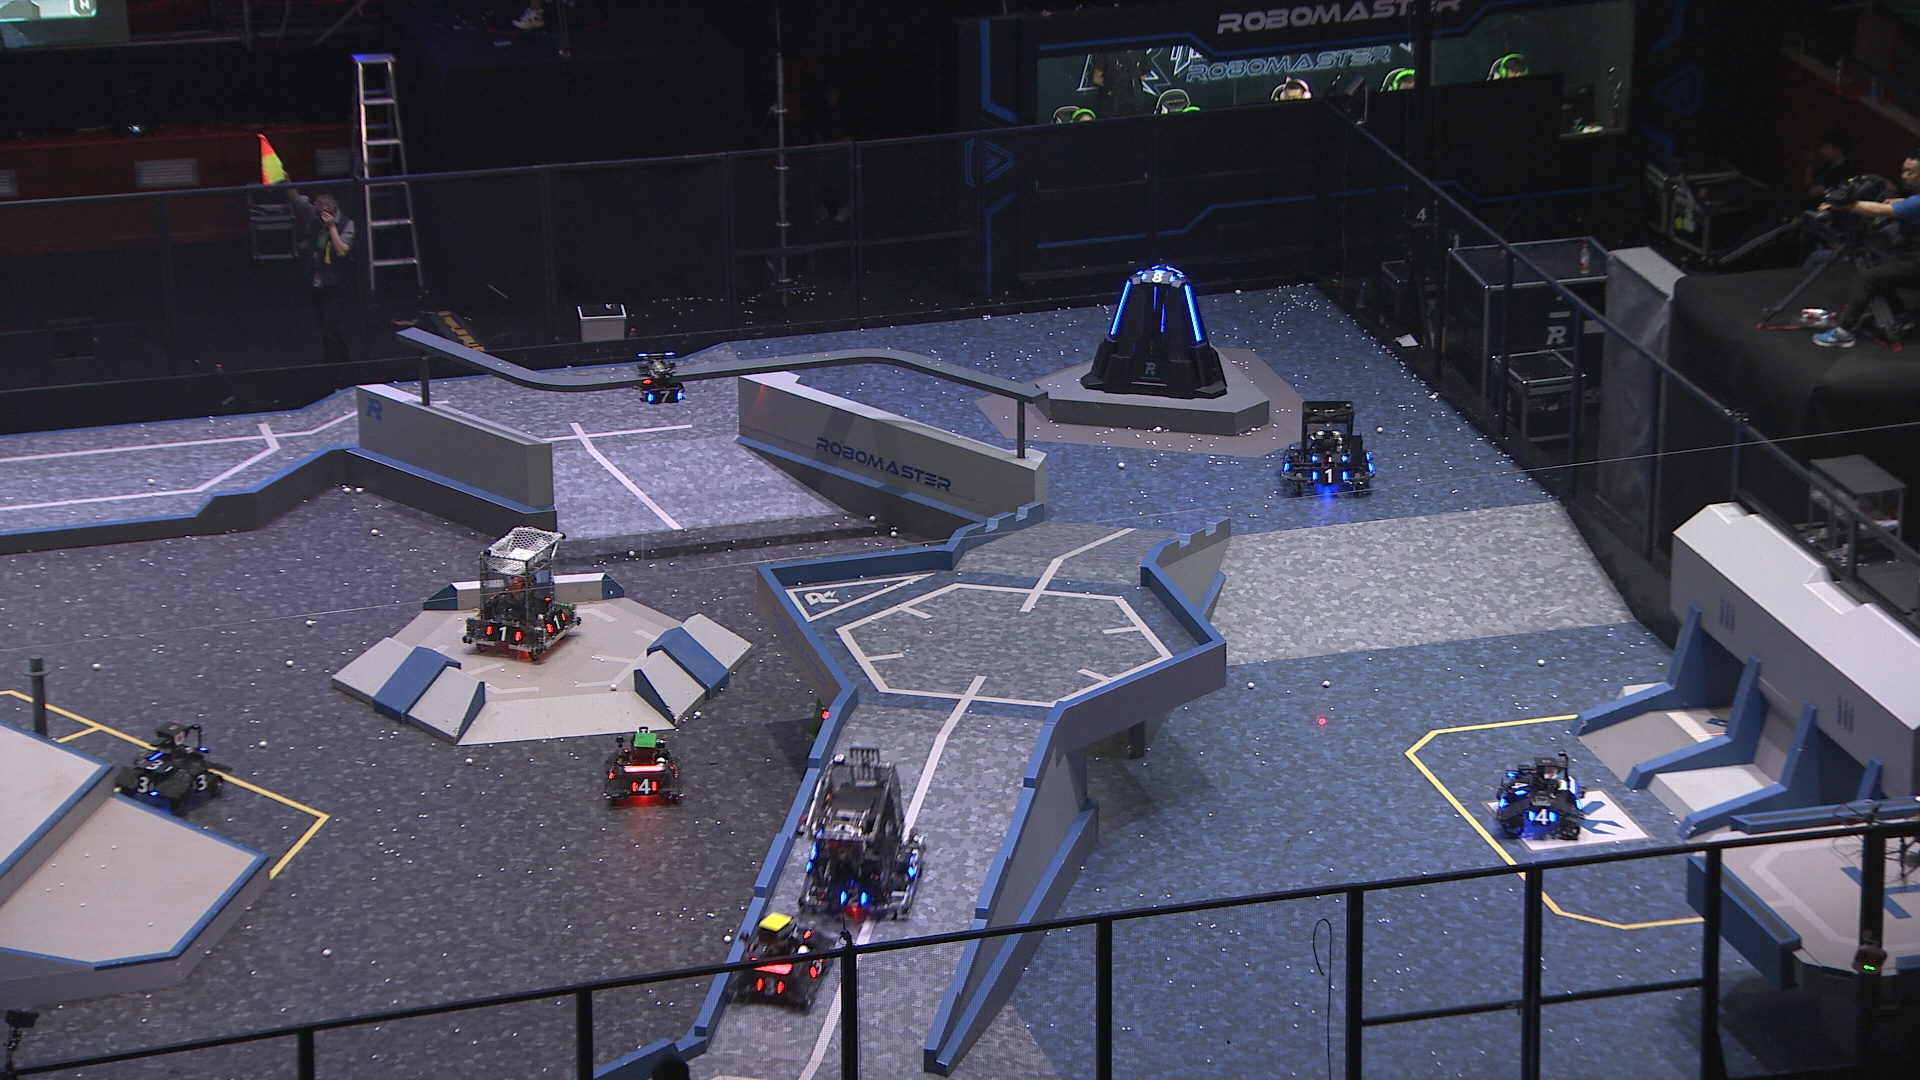armor: (1106, 280, 1134, 335), (1182, 284, 1203, 343), (484, 622, 524, 644), (1307, 465, 1352, 484), (837, 884, 869, 909), (138, 756, 178, 775), (754, 975, 785, 997), (645, 389, 684, 405), (628, 777, 659, 796), (1527, 806, 1557, 825), (545, 608, 567, 633), (131, 774, 156, 796), (189, 769, 210, 793), (1139, 270, 1176, 284), (1509, 777, 1531, 796), (905, 853, 920, 880), (808, 953, 823, 978), (1150, 284, 1160, 313)
base: (1076, 262, 1230, 400)
car: (793, 745, 923, 920), (465, 524, 583, 659), (111, 717, 225, 815), (732, 909, 840, 1007), (1280, 400, 1377, 498), (1493, 754, 1585, 843), (603, 725, 684, 811)
watcher: (632, 351, 688, 406)
